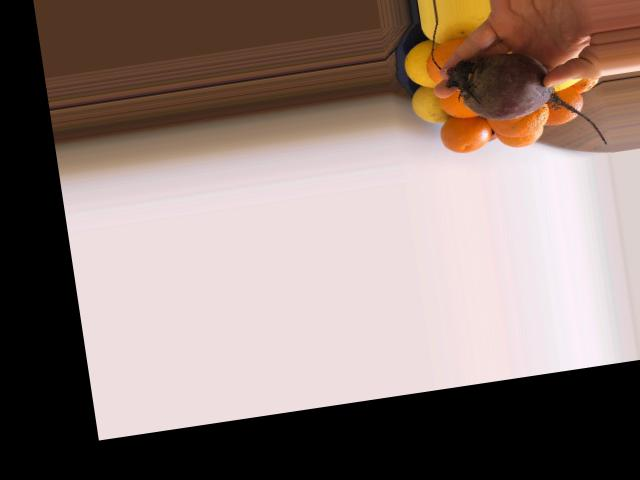beet: (444, 40, 606, 165)
